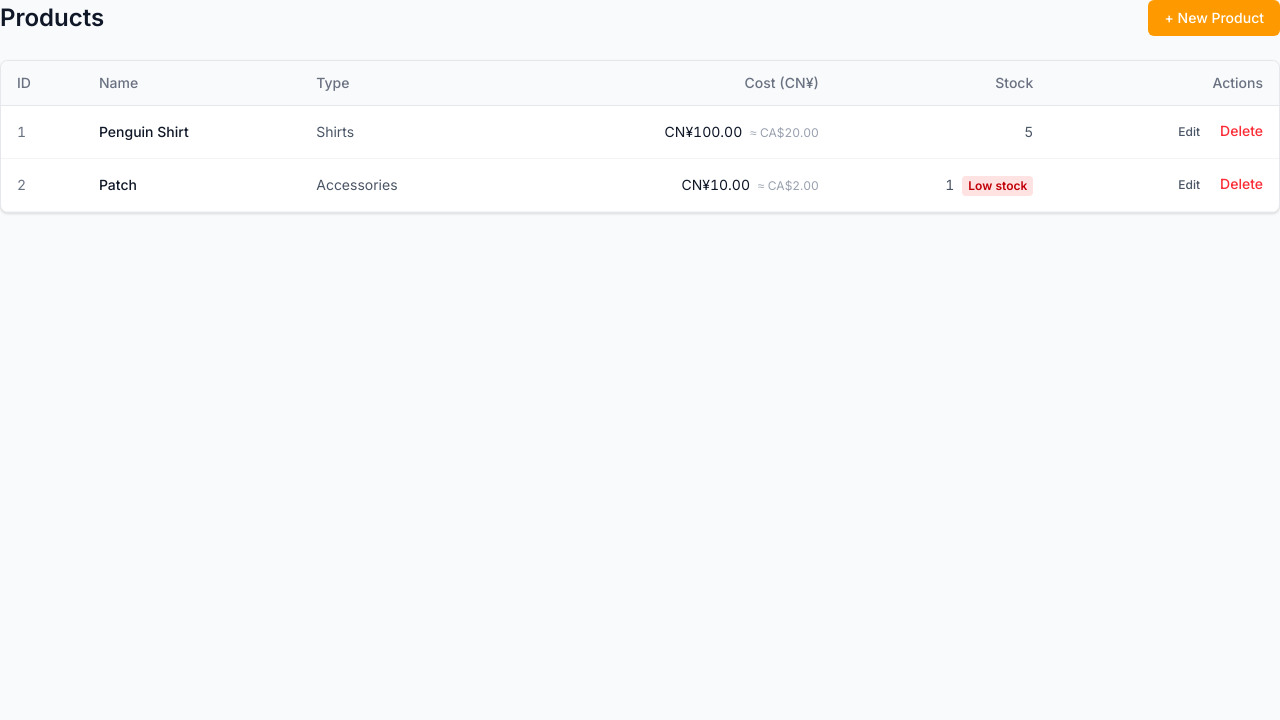
Scenario: ProductsPage › opens the New Product drawer and validates the name on submit
Check: the link "Penguin Shirt" is shown, box left=99, top=123, right=189, bottom=140
Click the button "+ New Product": (1214, 18) left=1148, top=0, right=1279, bottom=36
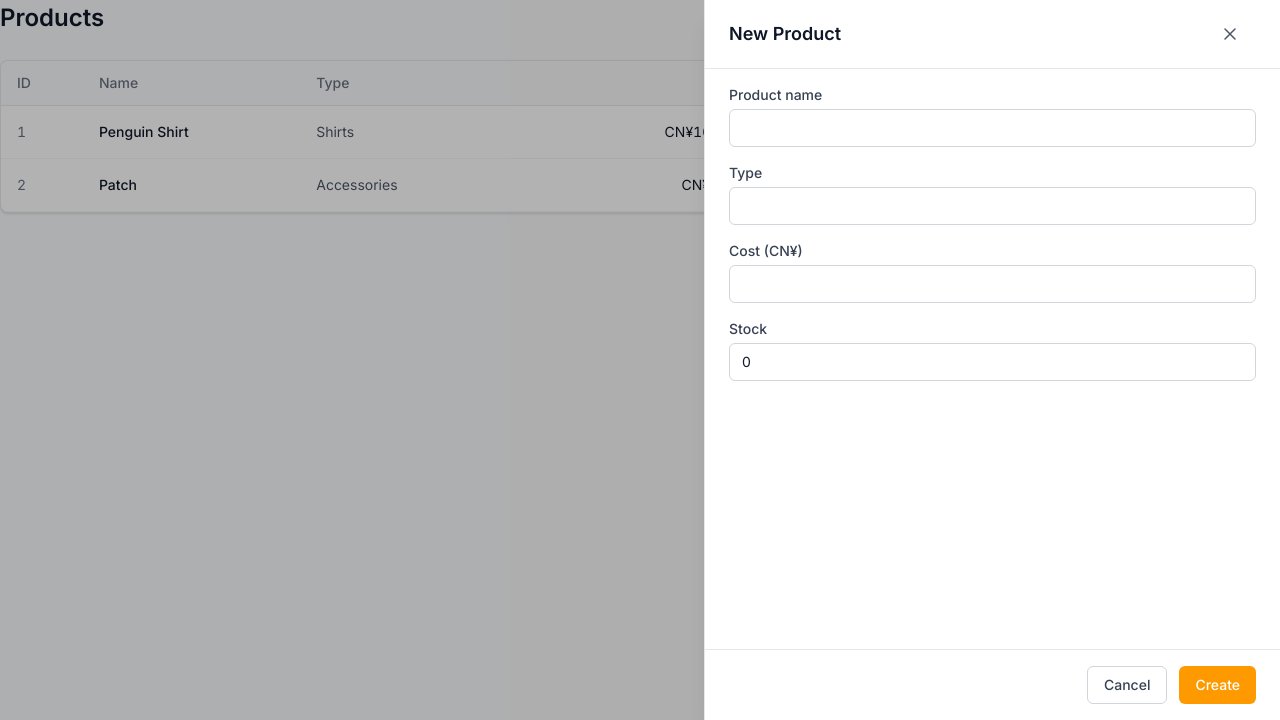
Check: the heading "New Product" is shown, box left=729, top=20, right=841, bottom=48
Click the button "Create": (1218, 685) left=1179, top=666, right=1256, bottom=704
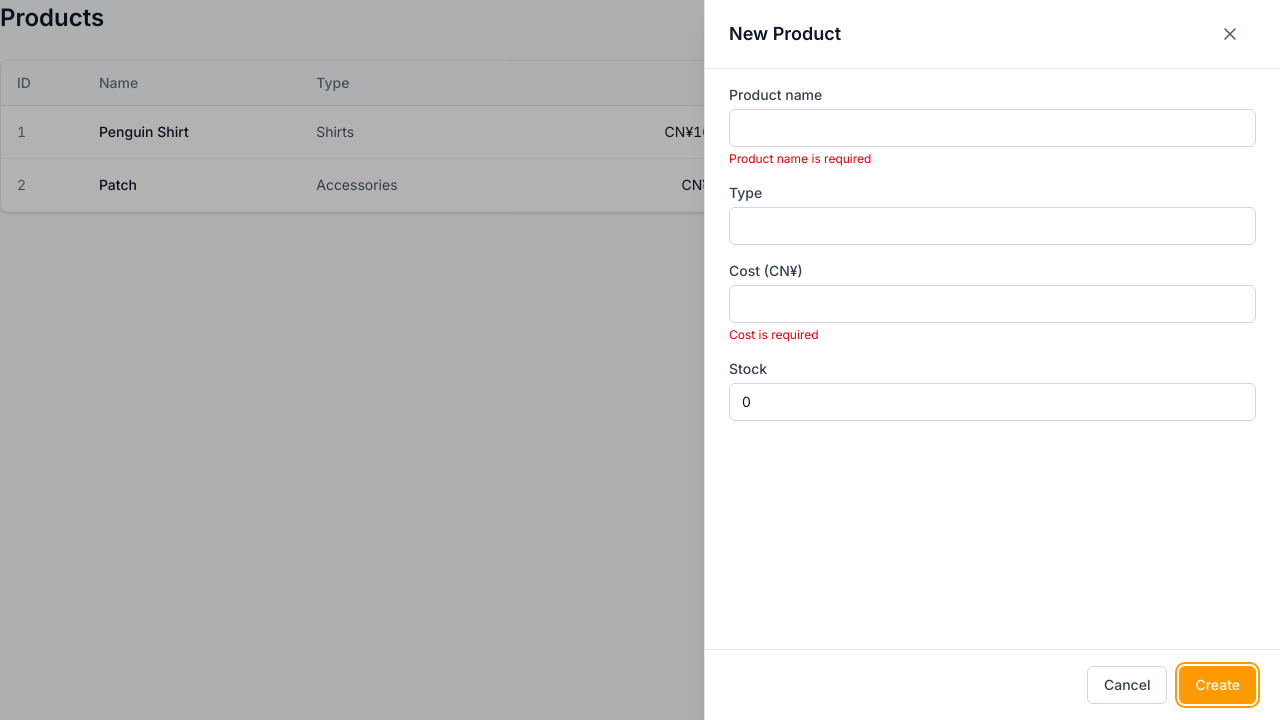
Check: the text "Product name is required" is shown, box left=729, top=151, right=871, bottom=166
